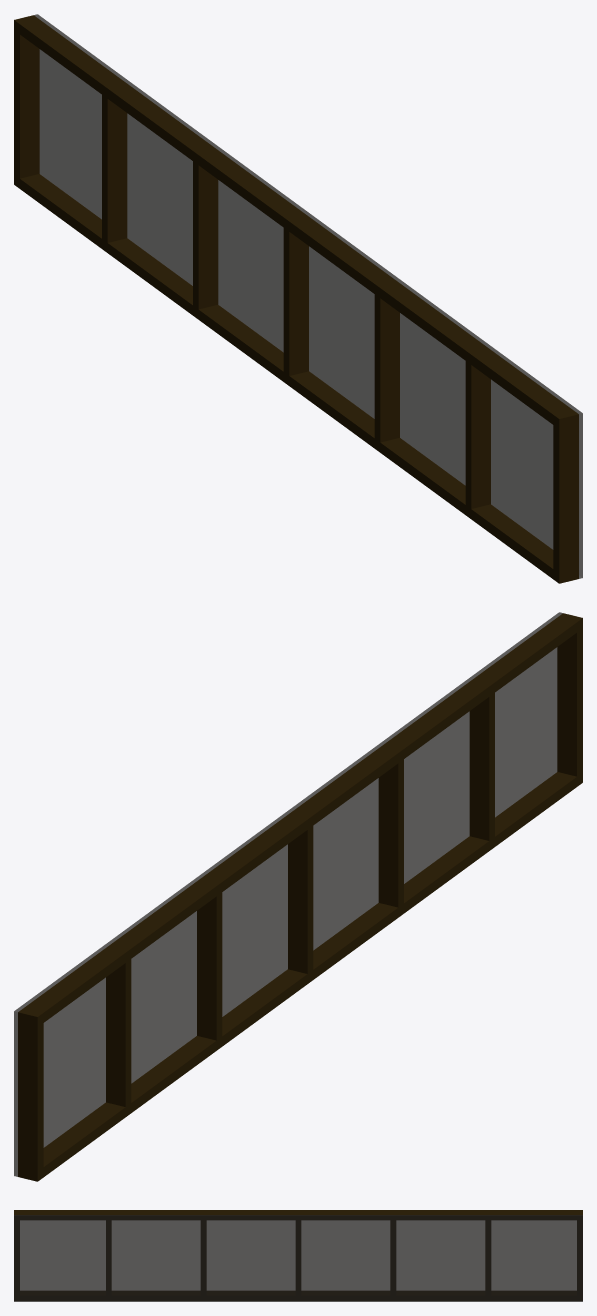
File: 6-SquareWindows(Final).fbx
3 renders of one model, top to bottom at view 1: azimuth 30°, elevation 25°; view 2: azimuth 150°, elevation 25°; view 3: azimuth 270°, elevation 25°, orthographic. The views are drawn at different scales.
Visible parts, largest first — view 1: 6SCC frame; view 2: 6SCC frame; view 3: 6SCC frame.
Boxes of the visible parts, x1=… form: 6SCC frame: x1=14, y1=14, x2=582, y2=583; 6SCC frame: x1=14, y1=612, x2=582, y2=1181; 6SCC frame: x1=14, y1=1210, x2=582, y2=1301.
Bounding box in the file's own units: 121 × 800 × 4800.
